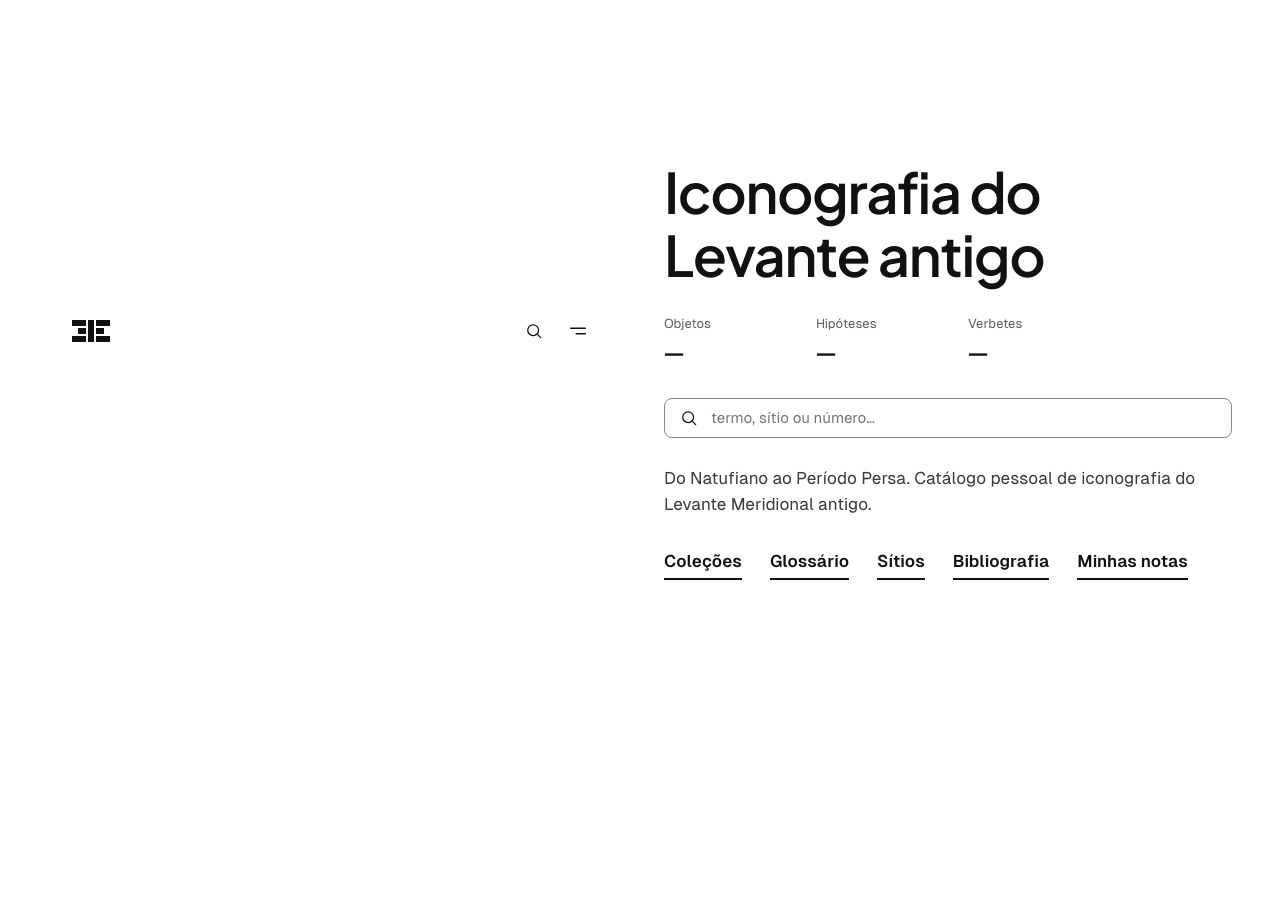
Scenario: Início › celular › o menu abre como folha, Esc fecha e o foco volta ao botão
Click the button named "Abrir o menu" at (578, 331), box [556,309,600,353]
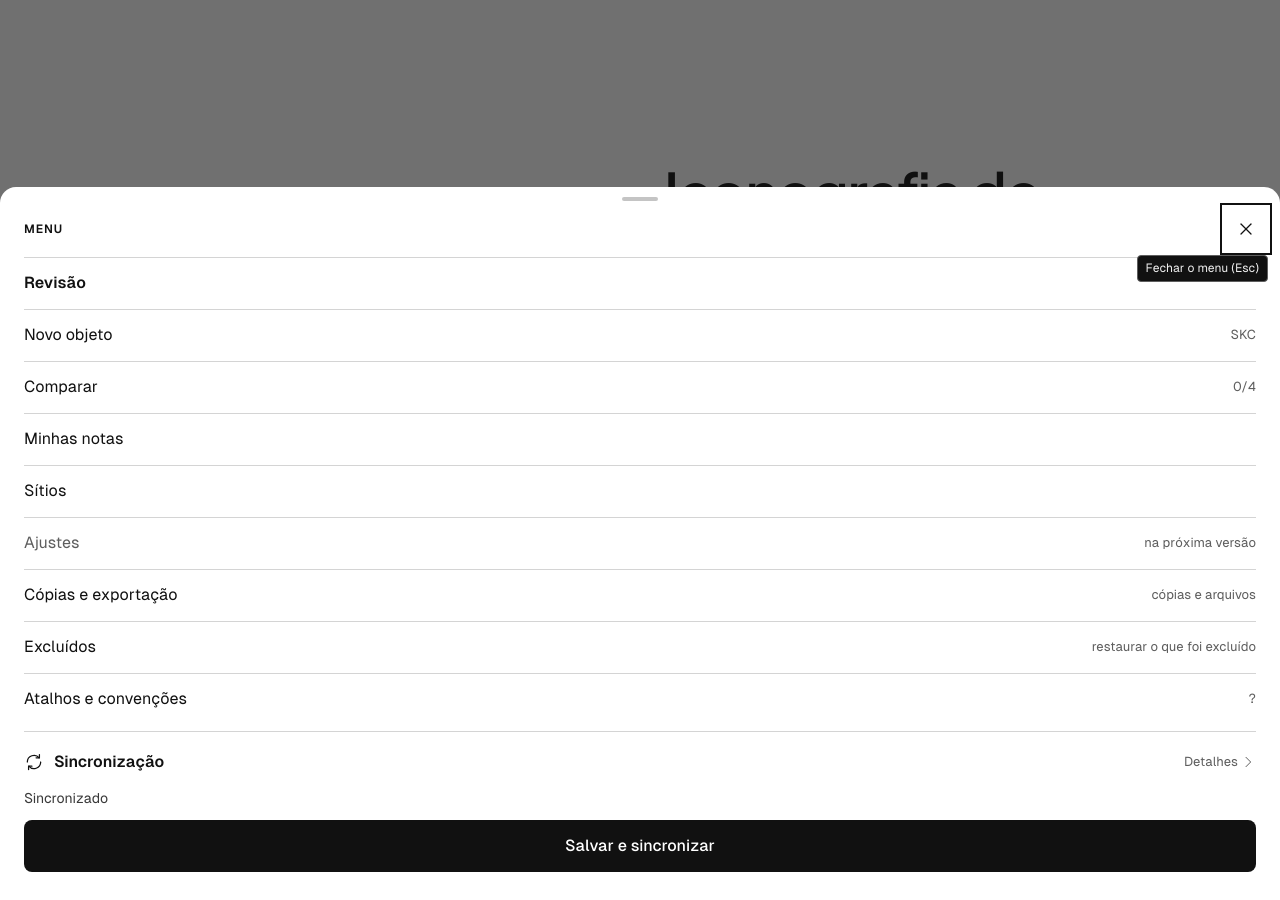
Check: the button named "Abrir o menu" is expanded, box [556,309,600,353]
Press Escape
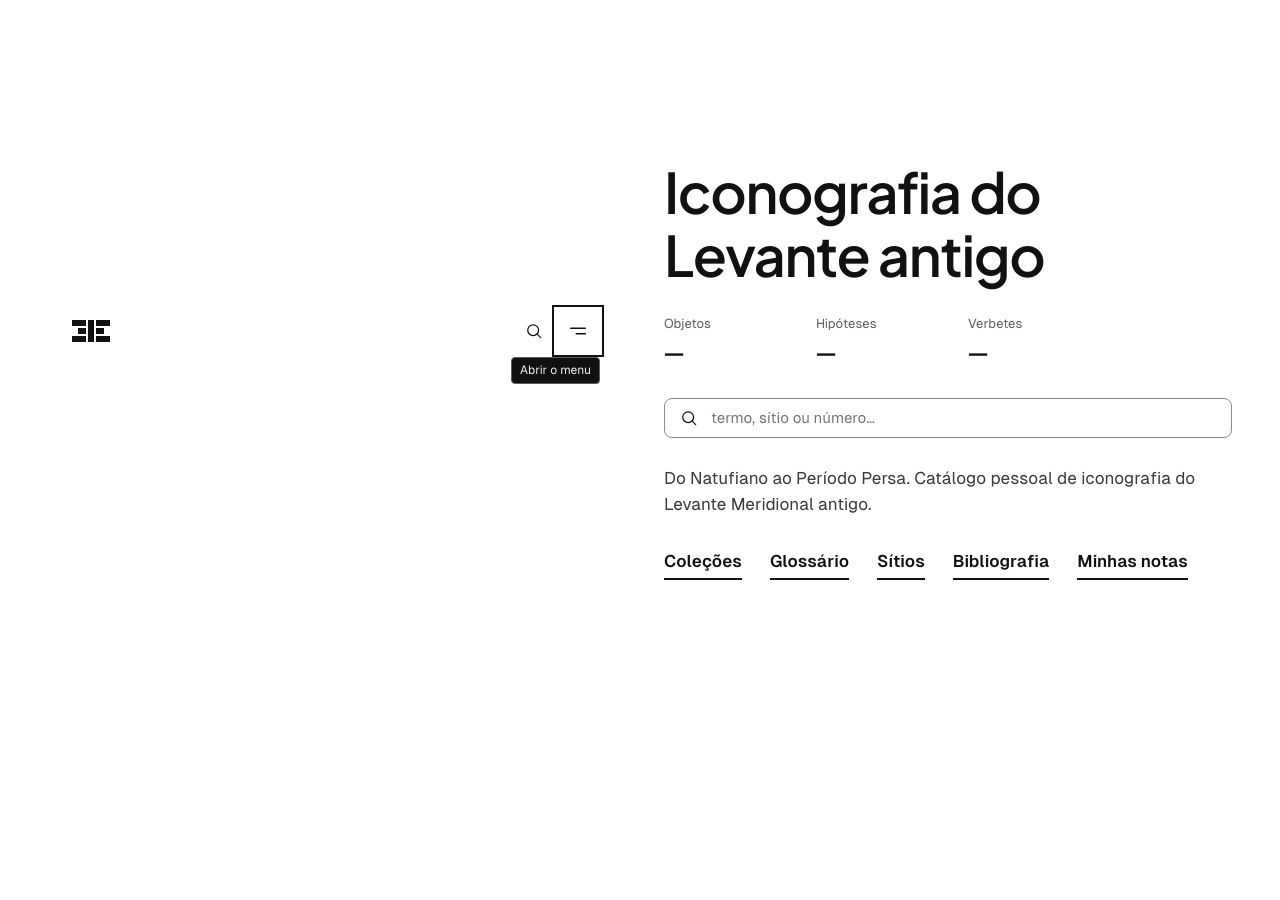
Check: the text "Menu" is gone
